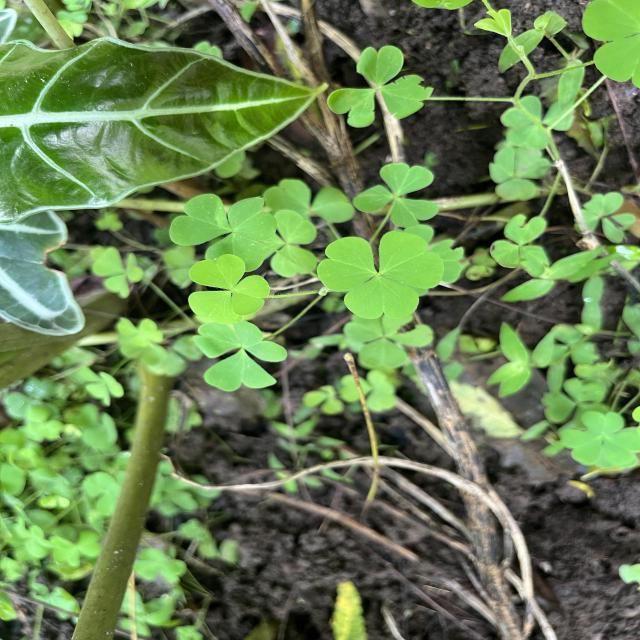Oxalis corniculata: (317, 230, 445, 322), (326, 44, 434, 130), (168, 192, 278, 274), (191, 320, 289, 393), (186, 252, 272, 326), (352, 162, 439, 229)
